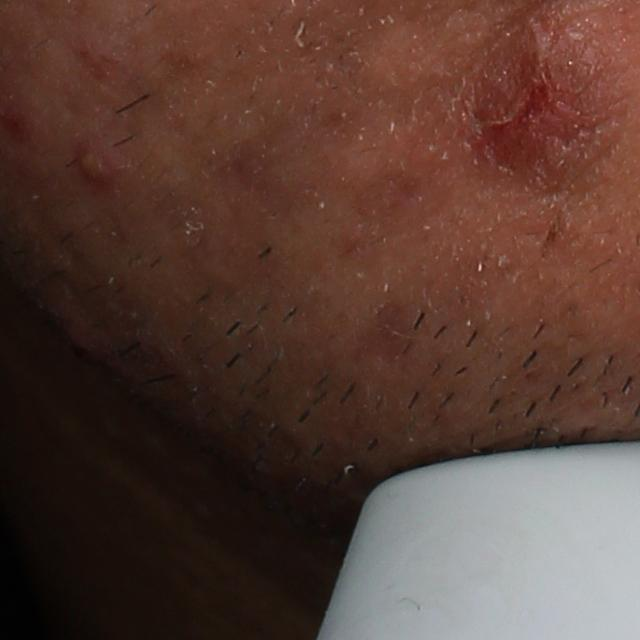hypertrophic_scar: (306, 120, 416, 203), (341, 26, 433, 103)
nodule: (474, 22, 626, 184)
pustule: (79, 146, 114, 191)
